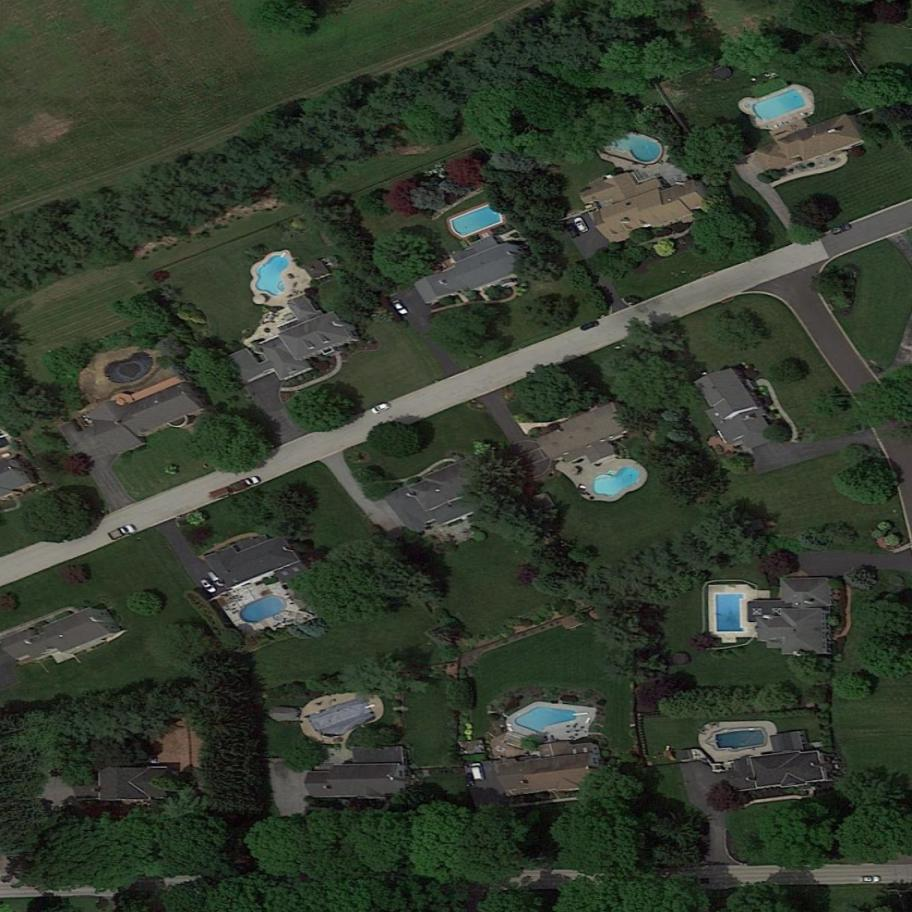large-vehicle: (208, 472, 262, 503)
small-vehicle: (205, 566, 229, 593), (108, 522, 139, 542), (827, 220, 856, 239), (368, 399, 395, 418), (569, 213, 590, 237), (391, 296, 411, 319), (197, 574, 217, 597), (578, 318, 602, 334), (561, 220, 579, 241), (469, 761, 485, 783), (856, 874, 883, 884)
